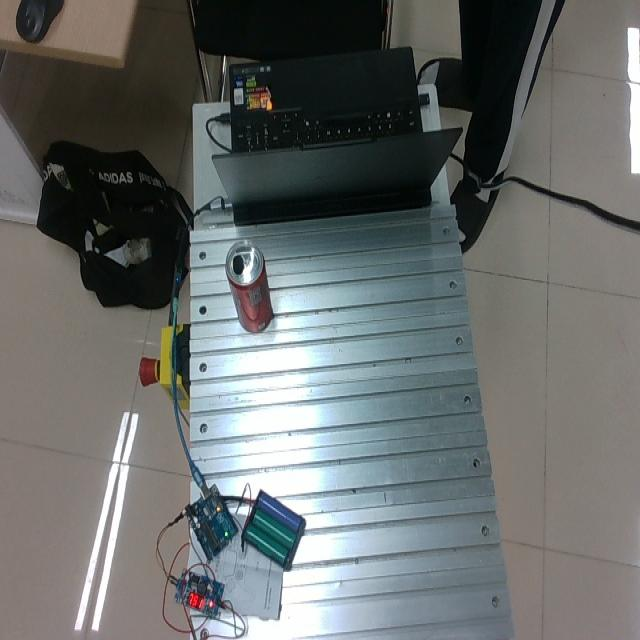coca: (225, 240, 273, 333)
